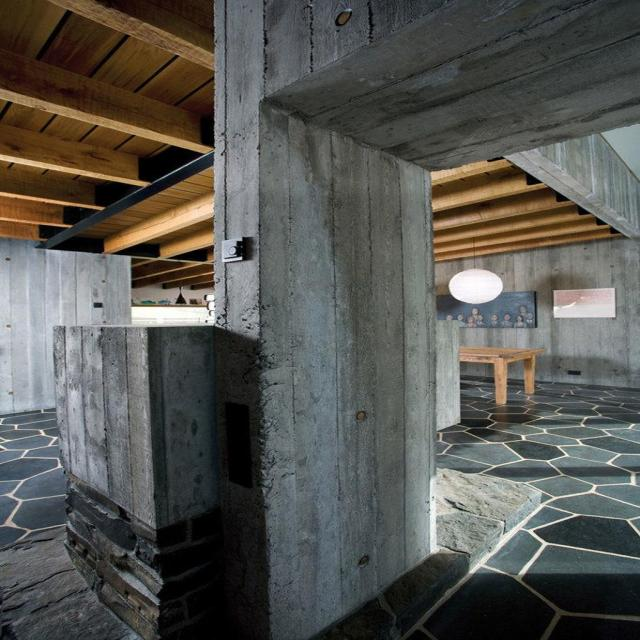Table: (445, 337, 563, 417)
